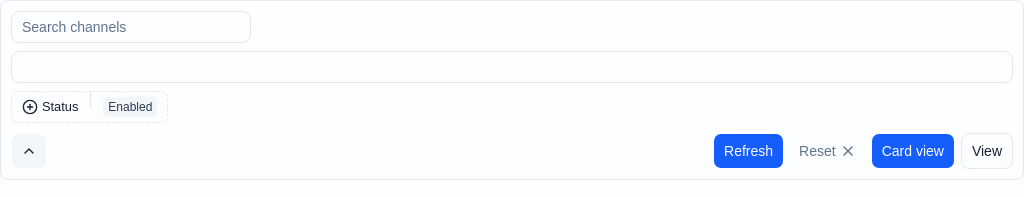
Test case: retains mobile search and filter values after expanding and resets them while collapsed
Type "production" into the field with placeholder "Search channels" at (131, 27), box [11,11,251,43]
Type "gpt" into the field named "Model" at (512, 67), box [11,51,1013,83]
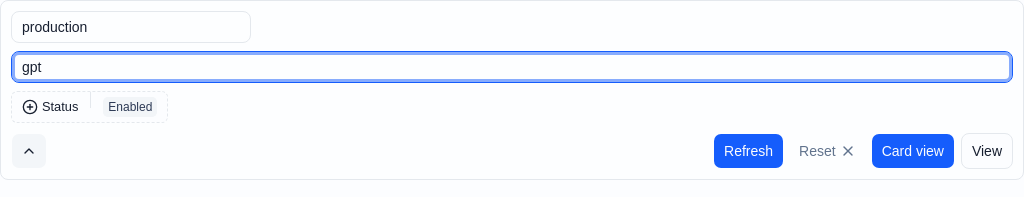
Click the button named "Collapse" at (29, 151), box [11,133,47,169]
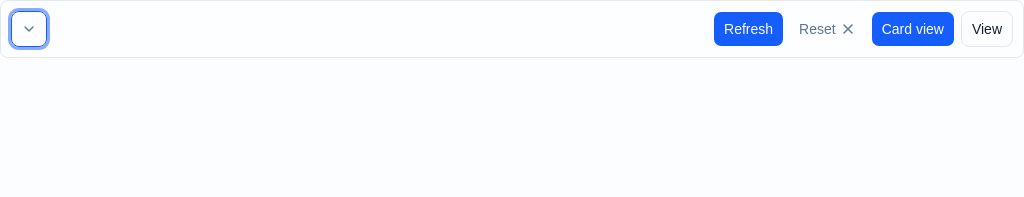
Click the button named "Expand" at (29, 29), box [11,11,47,47]
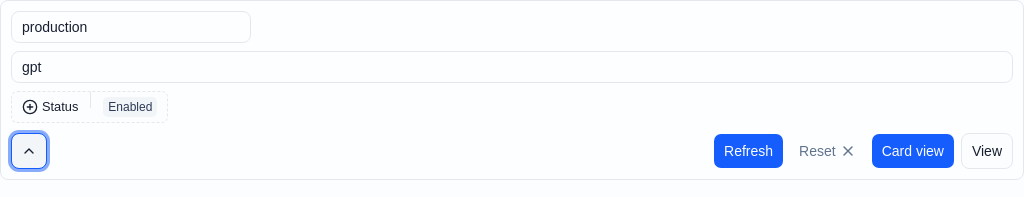
Result: the field with placeholder "Search channels" holds "production" at [11,11,251,43]
Result: the field named "Model" holds "gpt" at [11,51,1013,83]
Result: the button "Status Enabled" is shown at [11,91,168,123]
Click the button named "Collapse" at (29, 151), box [11,133,47,169]
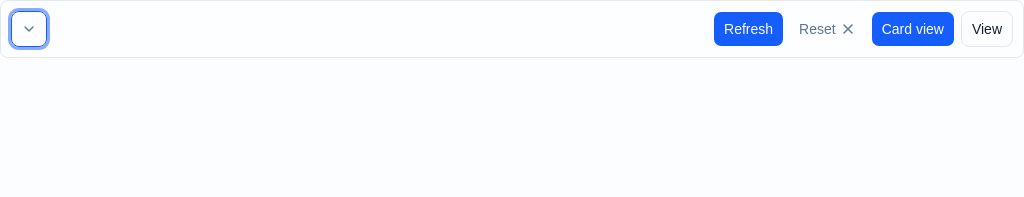
Click the button "Reset" at (827, 29), box [790,11,865,47]
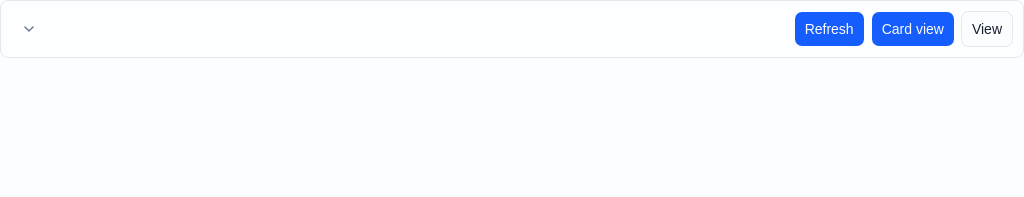
Click the button named "Expand" at (29, 29), box [11,11,47,47]
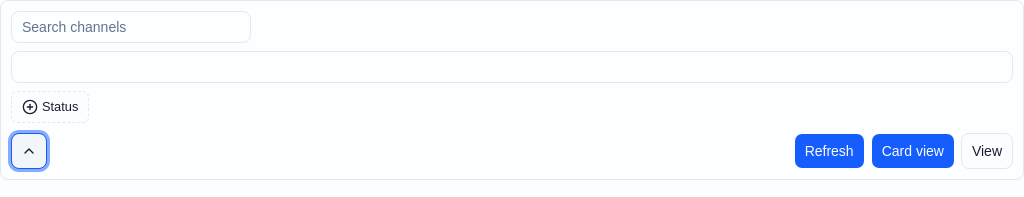
Result: the field with placeholder "Search channels" is empty at [11,11,251,43]
Result: the field named "Model" is empty at [11,51,1013,83]
Result: the button "Status" is shown at [11,91,89,123]
